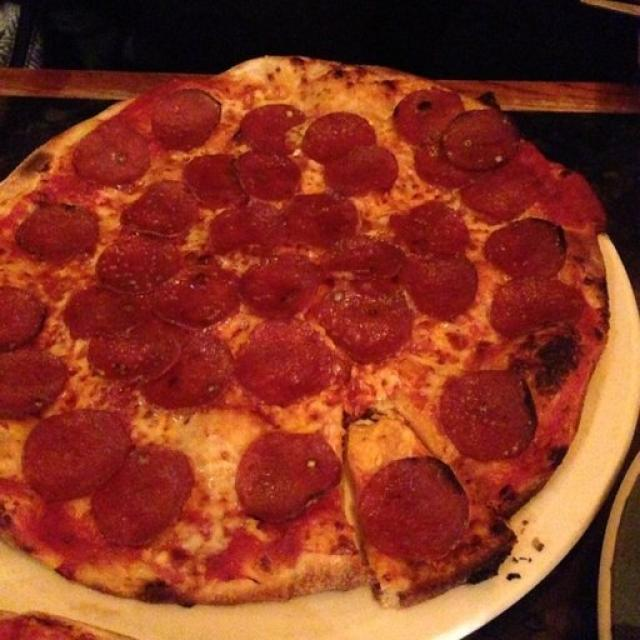Pepperoni: (234, 418, 342, 526), (99, 444, 192, 543), (23, 406, 123, 498), (364, 460, 460, 554), (442, 373, 528, 455), (247, 327, 327, 410), (327, 288, 413, 365), (92, 315, 178, 385), (143, 332, 224, 406), (496, 274, 575, 338), (160, 260, 235, 325), (486, 221, 570, 279), (458, 164, 542, 222), (245, 259, 328, 313), (19, 202, 100, 256), (0, 346, 66, 412), (81, 128, 151, 188), (154, 89, 221, 150), (418, 257, 480, 322), (110, 235, 178, 293), (448, 109, 520, 163), (127, 181, 188, 242), (324, 146, 396, 195), (342, 240, 415, 286), (390, 90, 462, 136), (232, 156, 302, 203), (0, 281, 45, 353), (539, 173, 605, 222), (417, 134, 469, 196), (188, 152, 245, 208), (289, 199, 356, 245), (241, 106, 300, 153), (207, 203, 261, 254), (75, 285, 133, 332), (310, 113, 370, 155)
Pizza: (0, 56, 609, 610)
